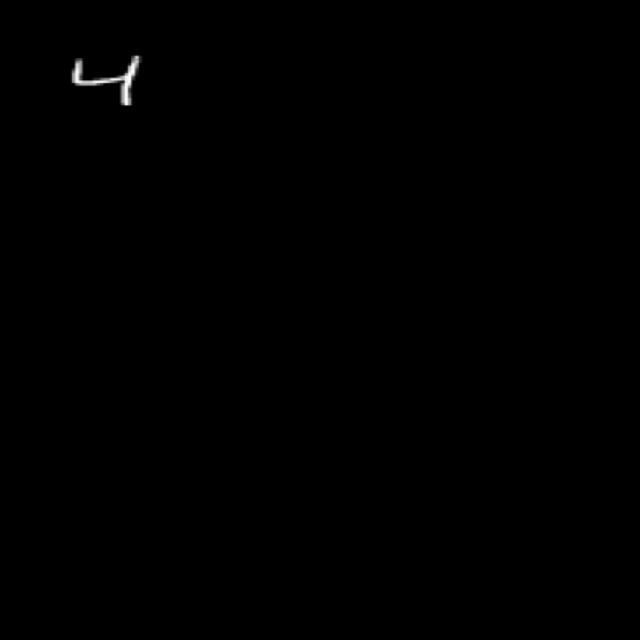four -4-: (52, 41, 162, 128)
